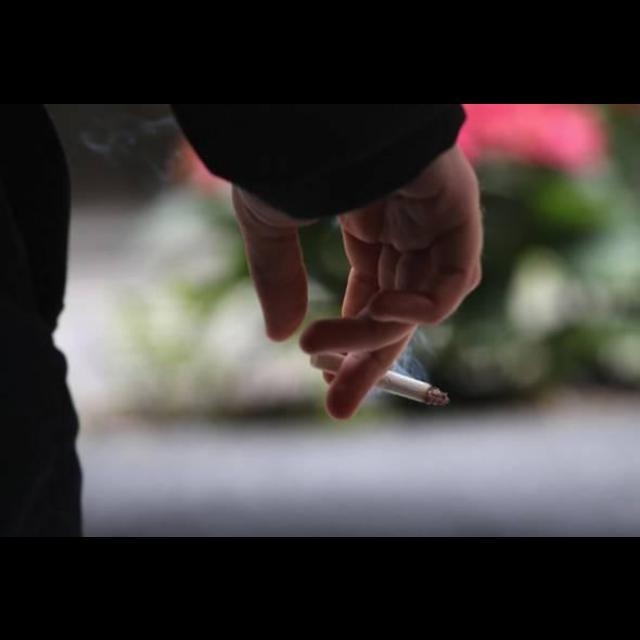rokok: (307, 340, 453, 418)
